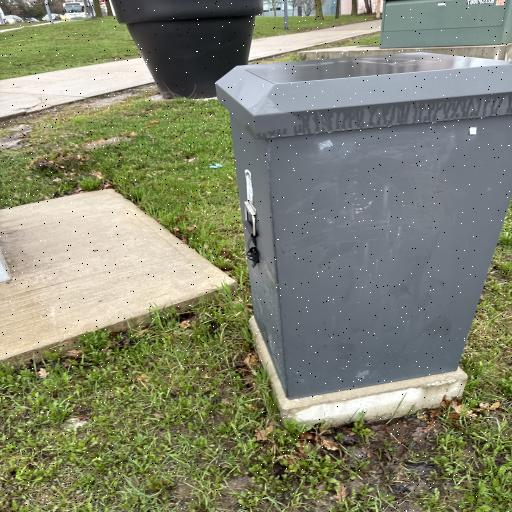Electrical Box: (212, 51, 512, 433), (369, 0, 512, 49)
